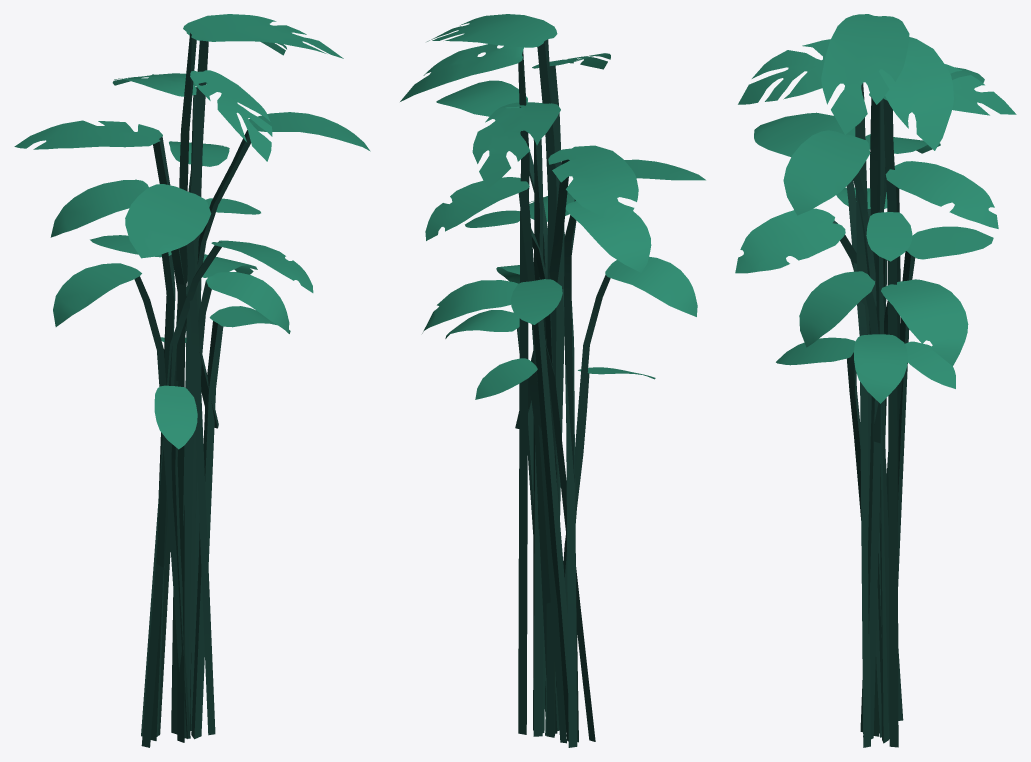
Rendered from plant_monstera_B_pot.fbx.
The picture shows the model from 3 angles, left to right: view 1: azimuth 30°, elevation 25°; view 2: azimuth 150°, elevation 25°; view 3: azimuth 270°, elevation 25°; orthographic projection. The views are drawn at different scales.
Parts seen in each view (by area): view 1: plant_monstera_B_leaf_26, plant_monstera_B_leaf_22, plant_monstera_B_leaf_23, plant_monstera_B_leaf_14, plant_monstera_B_leaf_28, plant_monstera_B_leaf_20, plant_monstera_B_leaf_07, plant_monstera_B_leaf_11, plant_monstera_leaf_A_22, plant_monstera_B_leaf_27, plant_monstera_B_leaf_17, plant_monstera_B_leaf_15 (+4 smaller); view 2: plant_monstera_B_leaf_21, plant_monstera_B_leaf_23, plant_monstera_B_leaf_13, plant_monstera_B_leaf_07, plant_monstera_B_leaf_24, plant_monstera_B_leaf_25, plant_monstera_B_leaf_28, plant_monstera_B_leaf_14, plant_monstera_B_leaf_15, plant_monstera_B_leaf_27, plant_monstera_B_leaf_29, plant_monstera_B_leaf_11 (+6 smaller); view 3: plant_monstera_B_leaf_21, plant_monstera_B_leaf_23, plant_monstera_B_leaf_11, plant_monstera_B_leaf_26, plant_monstera_B_leaf_20, plant_monstera_B_leaf_27, plant_monstera_B_leaf_22, plant_monstera_B_leaf_24, plant_monstera_B_leaf_17, plant_monstera_B_leaf_15, plant_monstera_B_leaf_25, plant_monstera_B_leaf_13 (+5 smaller).
Part boxes in pixels (x1,y1,x2,y2): plant_monstera_B_leaf_26: (125, 184, 215, 735); plant_monstera_B_leaf_22: (183, 70, 272, 692); plant_monstera_B_leaf_23: (171, 14, 343, 734); plant_monstera_B_leaf_14: (53, 263, 190, 738); plant_monstera_B_leaf_28: (50, 179, 174, 740); plant_monstera_B_leaf_20: (191, 306, 290, 739); plant_monstera_B_leaf_07: (14, 120, 218, 428); plant_monstera_B_leaf_11: (188, 112, 370, 723); plant_monstera_leaf_A_22: (154, 385, 197, 738); plant_monstera_B_leaf_27: (141, 240, 313, 736); plant_monstera_B_leaf_17: (195, 272, 289, 517); plant_monstera_B_leaf_15: (141, 254, 257, 747); plant_monstera_B_leaf_21: (400, 44, 529, 734); plant_monstera_B_leaf_23: (427, 14, 557, 737); plant_monstera_B_leaf_13: (510, 279, 568, 741); plant_monstera_B_leaf_07: (515, 145, 638, 428); plant_monstera_B_leaf_24: (472, 102, 560, 730); plant_monstera_B_leaf_25: (425, 177, 566, 743); plant_monstera_B_leaf_28: (564, 201, 651, 742); plant_monstera_B_leaf_14: (555, 256, 697, 730); plant_monstera_B_leaf_15: (422, 280, 595, 741); plant_monstera_B_leaf_27: (529, 192, 577, 747); plant_monstera_B_leaf_29: (475, 358, 557, 733); plant_monstera_B_leaf_11: (436, 80, 547, 732); plant_monstera_B_leaf_21: (879, 37, 953, 747); plant_monstera_B_leaf_23: (821, 14, 909, 271); plant_monstera_B_leaf_11: (783, 130, 889, 739); plant_monstera_B_leaf_26: (754, 112, 870, 747); plant_monstera_B_leaf_20: (854, 334, 907, 739); plant_monstera_B_leaf_27: (735, 208, 903, 720); plant_monstera_B_leaf_22: (738, 39, 881, 737); plant_monstera_B_leaf_24: (876, 64, 1016, 743); plant_monstera_B_leaf_17: (799, 271, 889, 738); plant_monstera_B_leaf_15: (881, 279, 968, 434); plant_monstera_B_leaf_25: (885, 161, 998, 521); plant_monstera_B_leaf_13: (898, 226, 993, 586).
Bounding box in the file's own units: 133 × 313 × 110.
